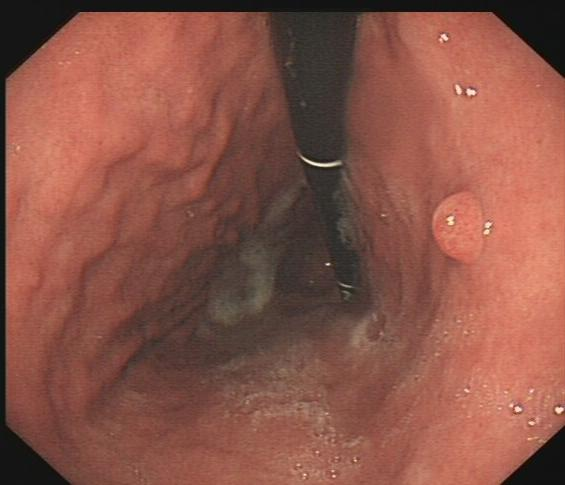Polyp: (422, 186, 498, 273)
